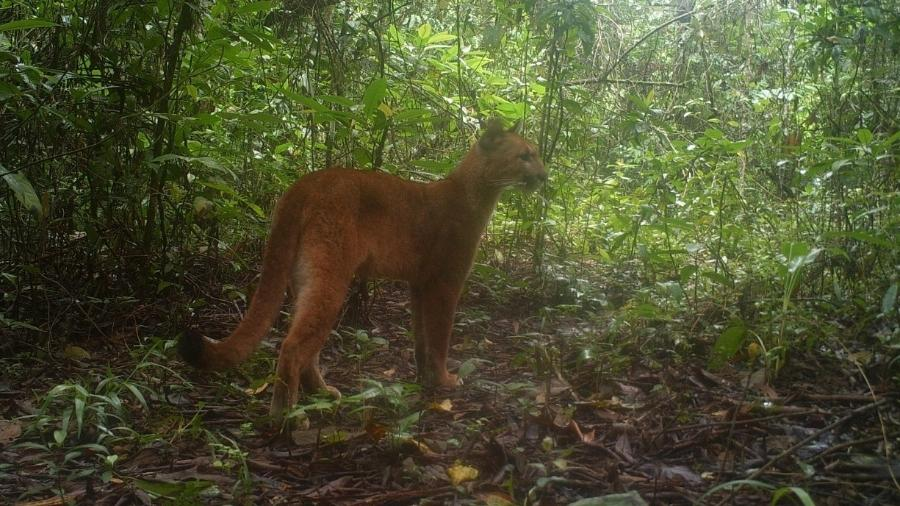OncaParda: (171, 115, 555, 418)
